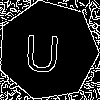U: (23, 25, 62, 73)
